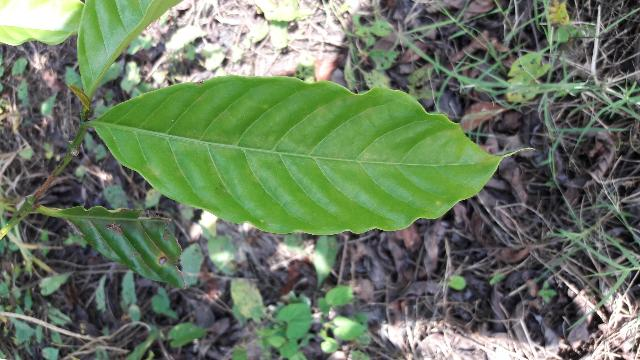healthy: (92, 74, 512, 237)
